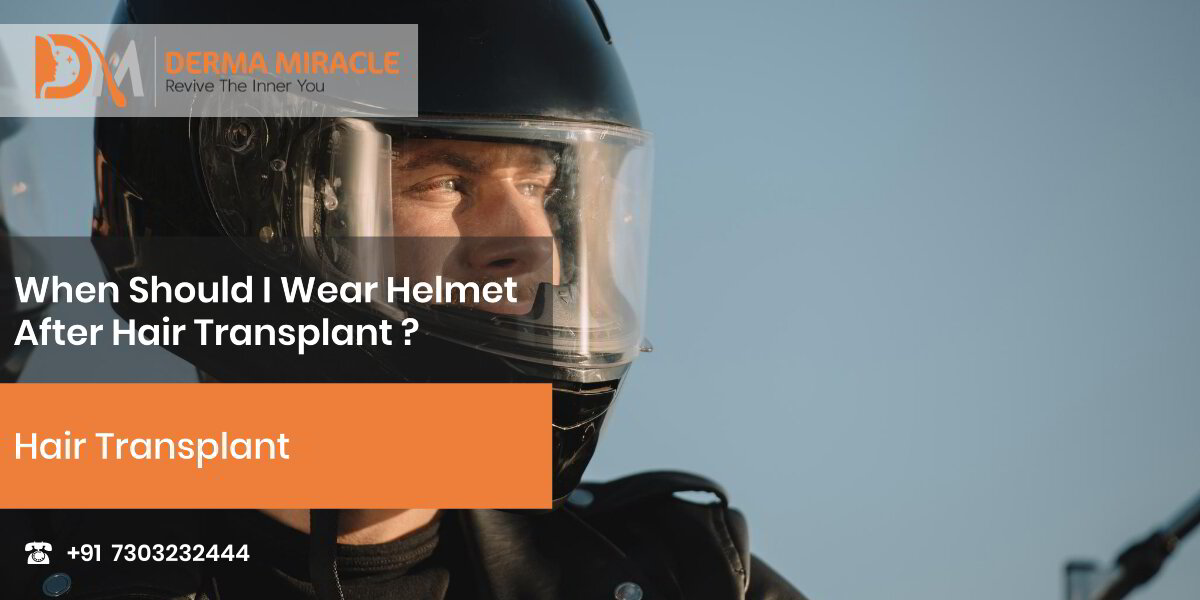helmets: (52, 0, 692, 505)
